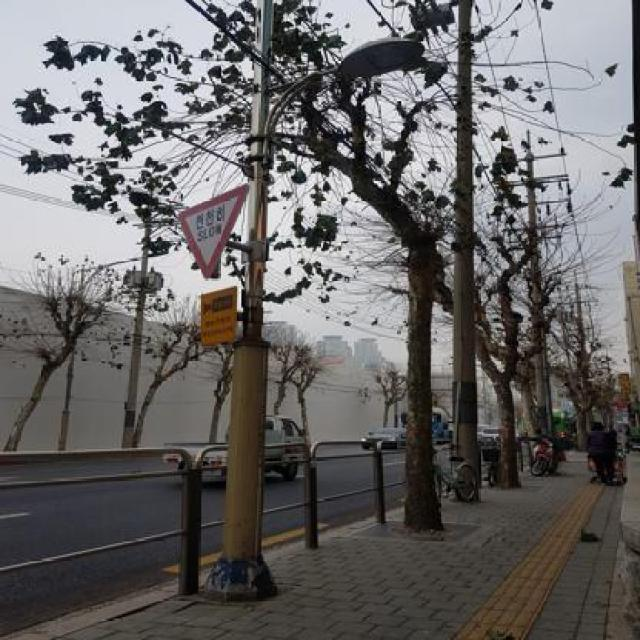pole: (202, 29, 302, 611)
